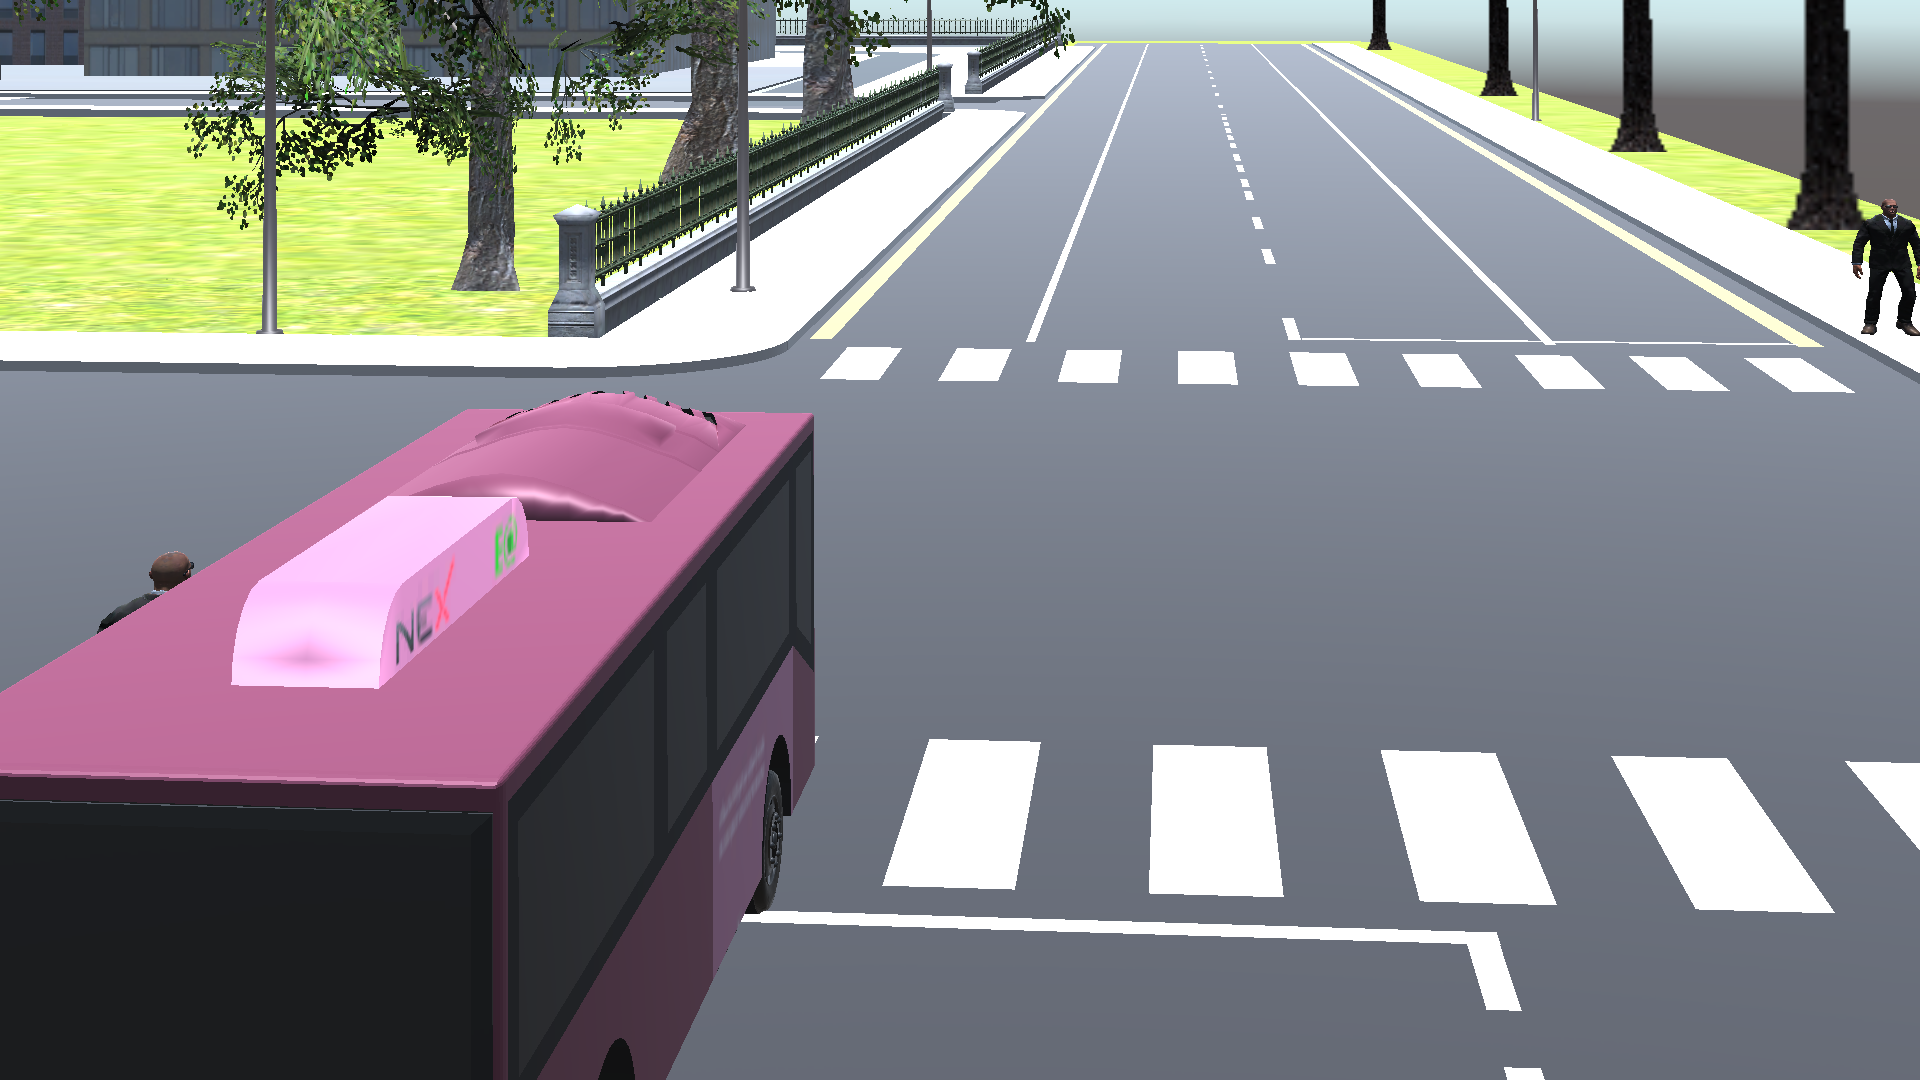pedestrian: (1840, 197, 1920, 349), (84, 545, 200, 640)
